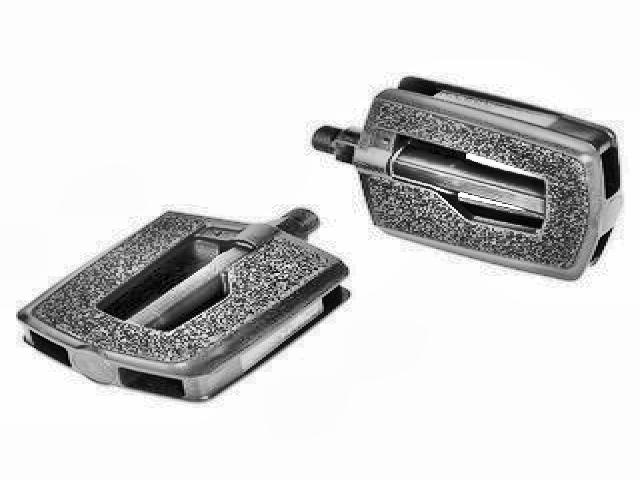pedal: (307, 68, 633, 288), (21, 202, 358, 408)
